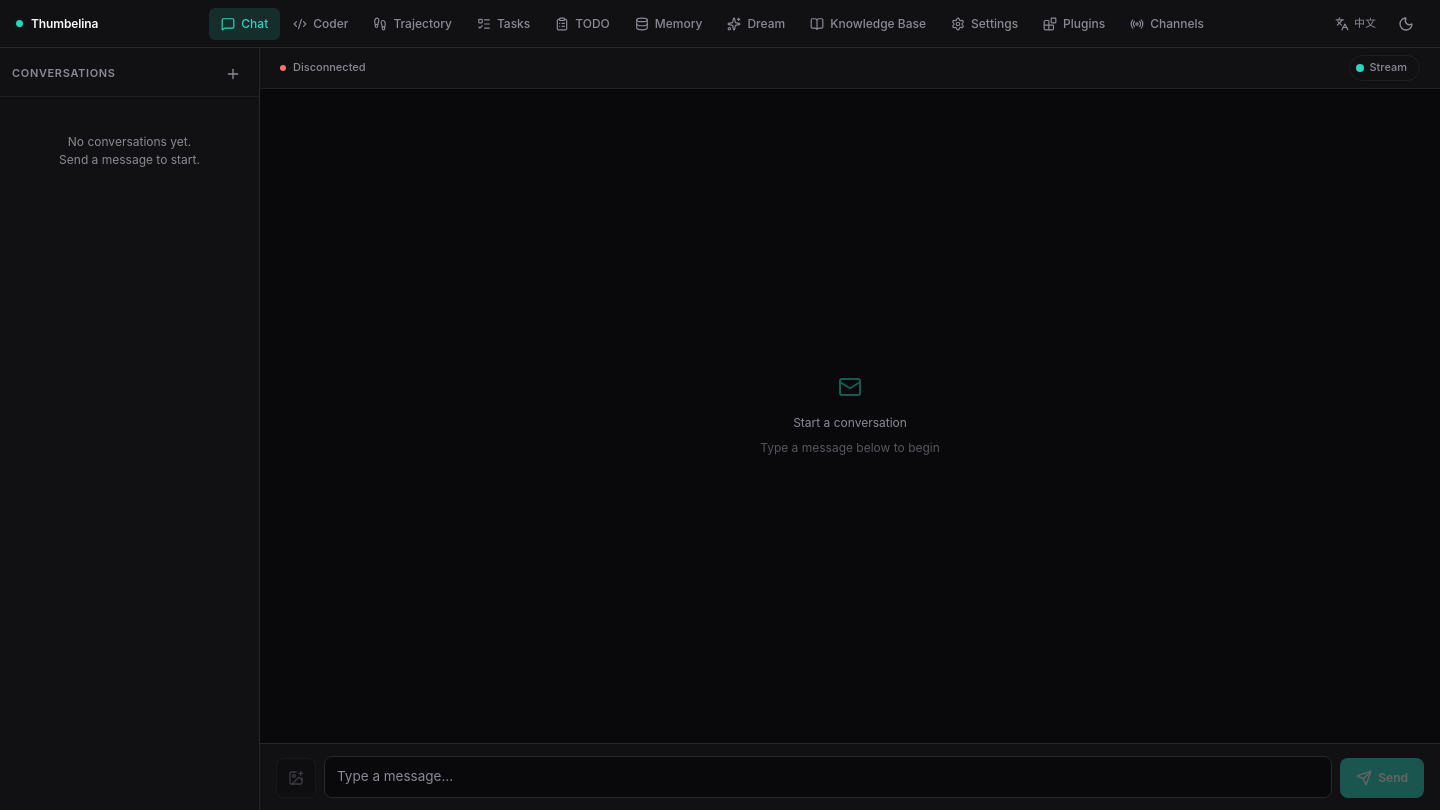
Scenario: App page switching › switches to the coder page and shows the coder sidebar
Step 1. Click the button with test id "nav-coder" → coordinates (321, 24), box top-left (281, 8), bottom-right (360, 40)
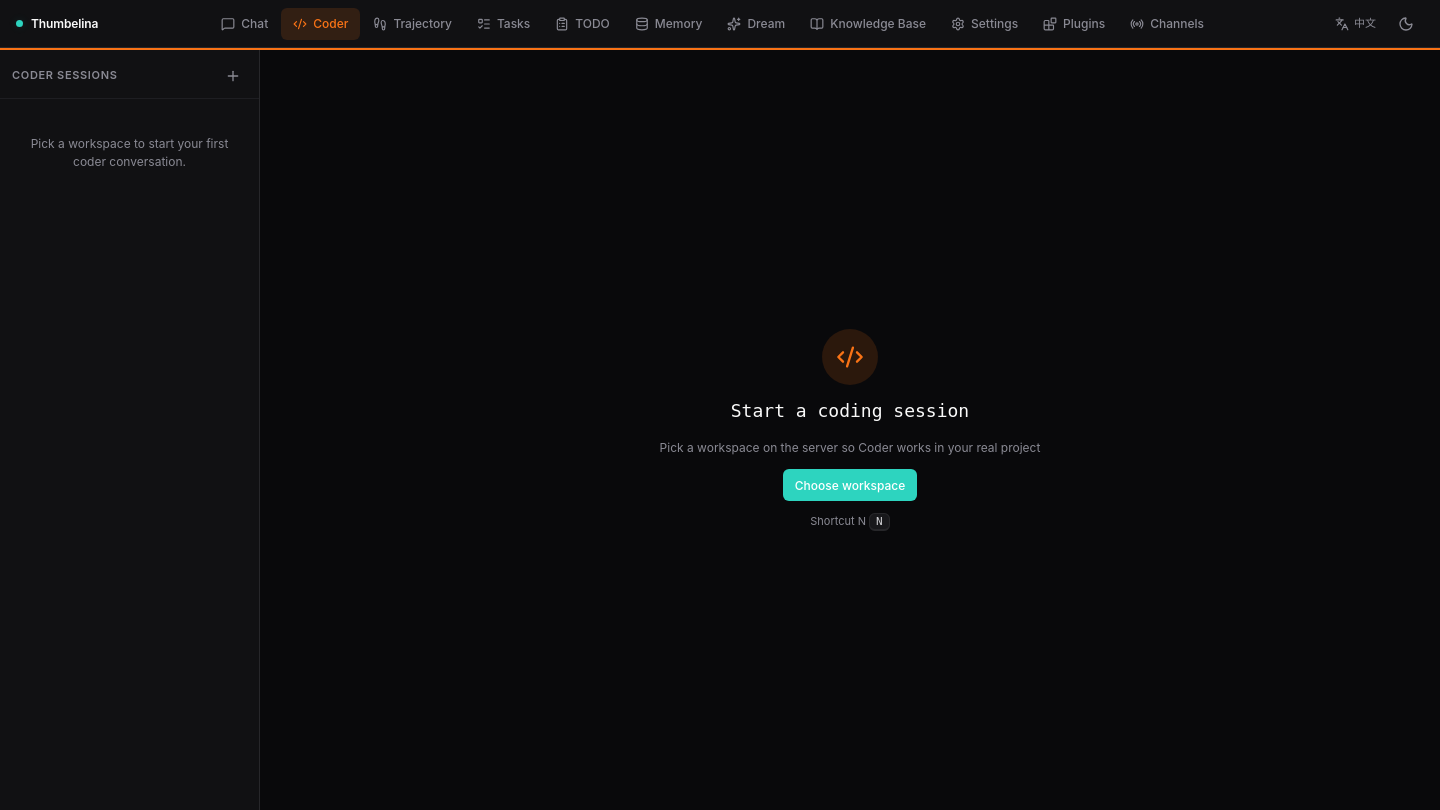
expect the element with test id "coder-sidebar" is shown: met, box top-left (0, 50), bottom-right (260, 809)
expect the text "Pick a workspace to start your first coder conversation." is shown: met, box top-left (31, 136), bottom-right (228, 169)
